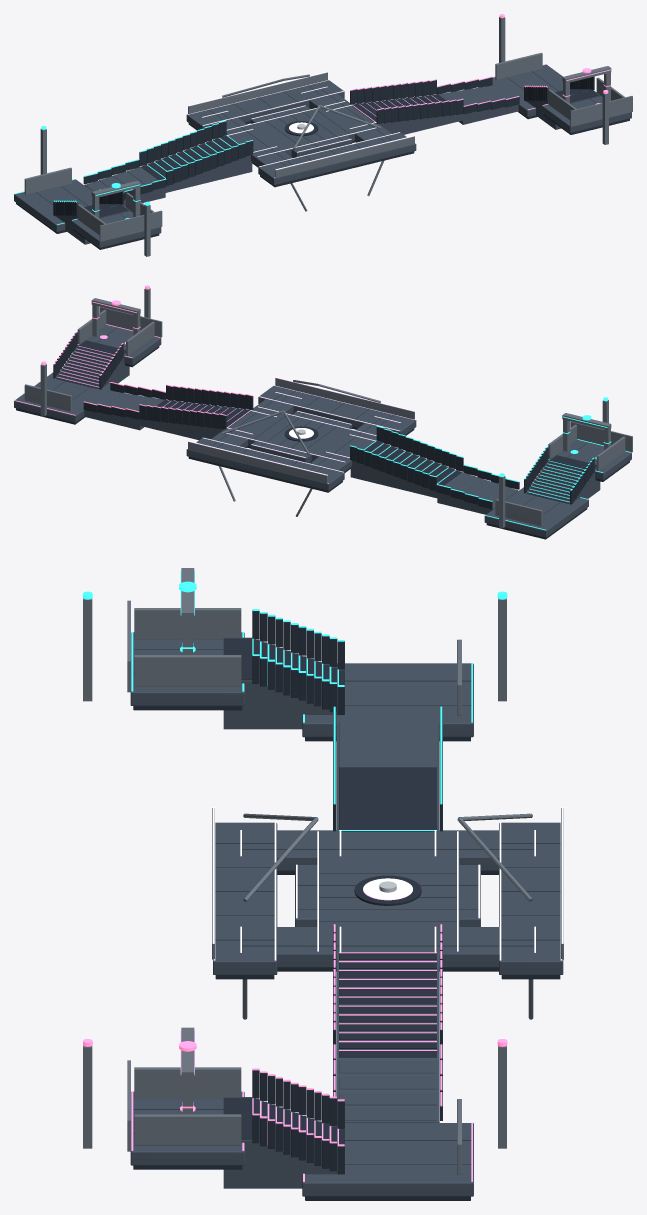
File: relay_arena.glb
3 views of the same model, one above another, from view 1: azimuth 30°, elevation 25°; view 2: azimuth 150°, elevation 25°; view 3: azimuth 270°, elevation 25° (orthographic). The views are drawn at different scales.
Parts seen in each view (by area): view 1: CentralStation, SouthStationWing, NorthStationWing, AzureSpawn, CorePlaza, CrimsonSpawn, AzureStationStairs, NorthOuterGuard, SouthOuterGuard, AzureBackStop, AzureGoalDeck, CrimsonBackStop (+18 smaller); view 2: CentralStation, NorthStationWing, AzureSpawn, SouthStationWing, CrimsonSpawn, AzureStationStairs, SouthOuterGuard, NorthOuterGuard, AzureGoalStairs, CorePlaza, CrimsonGoalStairs, CrimsonGoalDeck (+15 smaller); view 3: CentralStation, CrimsonSpawn, AzureSpawn, NorthStationWing, SouthStationWing, CorePlaza, CrimsonGoalDeck, AzureGoalDeck, AzureGoalStairs, CrimsonGoalStairs, AzureGoalWall_3, CrimsonGoalWall_3 (+20 smaller).
Part boxes in pixels (x1,y1,x2,y2): CentralStation: [226, 101, 375, 156]; SouthStationWing: [186, 80, 344, 129]; NorthStationWing: [258, 132, 416, 185]; AzureSpawn: [14, 179, 92, 231]; CorePlaza: [250, 106, 352, 157]; CrimsonSpawn: [486, 64, 562, 117]; AzureStationStairs: [140, 135, 252, 192]; NorthOuterGuard: [275, 136, 414, 177]; SouthOuterGuard: [188, 72, 327, 113]; AzureBackStop: [99, 210, 162, 241]; AzureGoalDeck: [71, 211, 161, 247]; CrimsonBackStop: [570, 96, 632, 126]; CentralStation: [224, 407, 374, 461]; NorthStationWing: [258, 386, 416, 435]; AzureSpawn: [484, 487, 588, 537]; SouthStationWing: [186, 438, 344, 490]; CrimsonSpawn: [14, 372, 116, 422]; AzureStationStairs: [350, 441, 462, 498]; SouthOuterGuard: [188, 441, 327, 483]; NorthOuterGuard: [275, 378, 414, 419]; AzureGoalStairs: [525, 455, 600, 504]; CorePlaza: [250, 411, 352, 463]; CrimsonGoalStairs: [55, 340, 129, 389]; CrimsonGoalDeck: [73, 325, 161, 365]; CentralStation: [316, 831, 459, 952]; CrimsonSpawn: [302, 1123, 473, 1196]; AzureSpawn: [302, 663, 473, 737]; NorthStationWing: [213, 822, 277, 974]; SouthStationWing: [499, 822, 563, 974]; CorePlaza: [295, 865, 480, 926]; CrimsonGoalDeck: [130, 1091, 244, 1165]; AzureGoalDeck: [130, 632, 244, 705]; AzureGoalStairs: [223, 637, 345, 729]; CrimsonGoalStairs: [223, 1097, 345, 1188]; AzureGoalWall_3: [134, 655, 241, 686]; CrimsonGoalWall_3: [134, 1114, 241, 1145].
Size of what is drawn, in the model's own units: 86 by 13.39 by 33.65.
